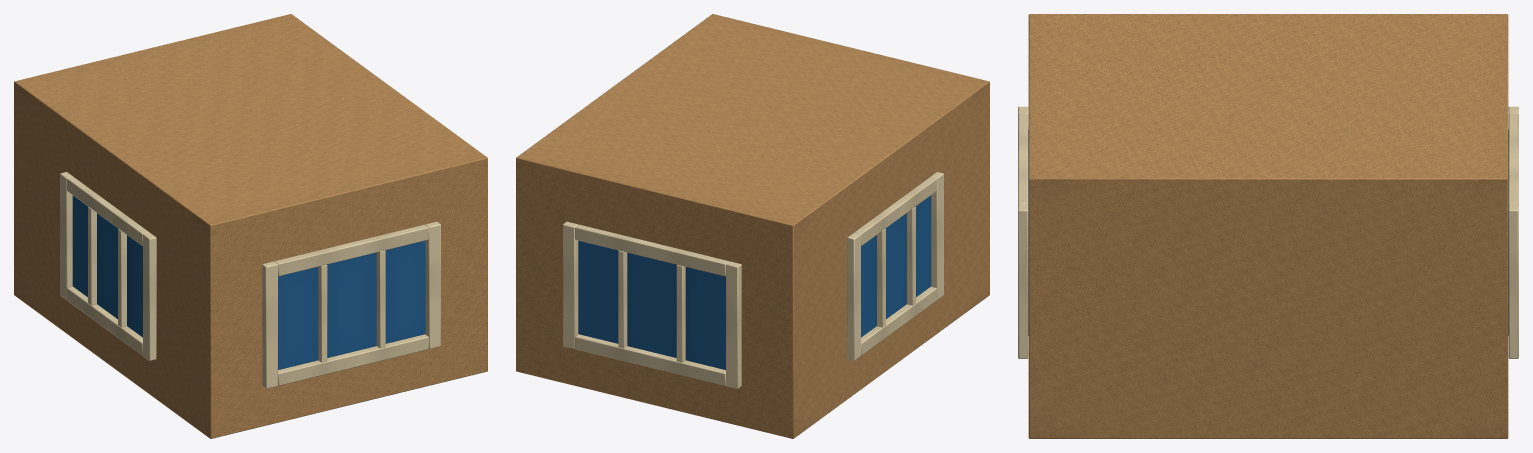
The model's file is 11-top-box-left-wing.fbx.
The picture shows the model from 3 angles, left to right: view 1: azimuth 30°, elevation 25°; view 2: azimuth 150°, elevation 25°; view 3: azimuth 270°, elevation 25°; orthographic projection. The views are drawn at different scales.
Visible parts, largest first — view 1: top-box-left-wing; view 2: top-box-left-wing; view 3: top-box-left-wing.
Boxes of the visible parts, bbox=[...] form: top-box-left-wing: bbox=[14, 14, 487, 438]; top-box-left-wing: bbox=[516, 14, 989, 438]; top-box-left-wing: bbox=[1018, 14, 1518, 438].
Size of the model in its own units: 5855 by 4200 by 7310.
1 material, 1 textured.
